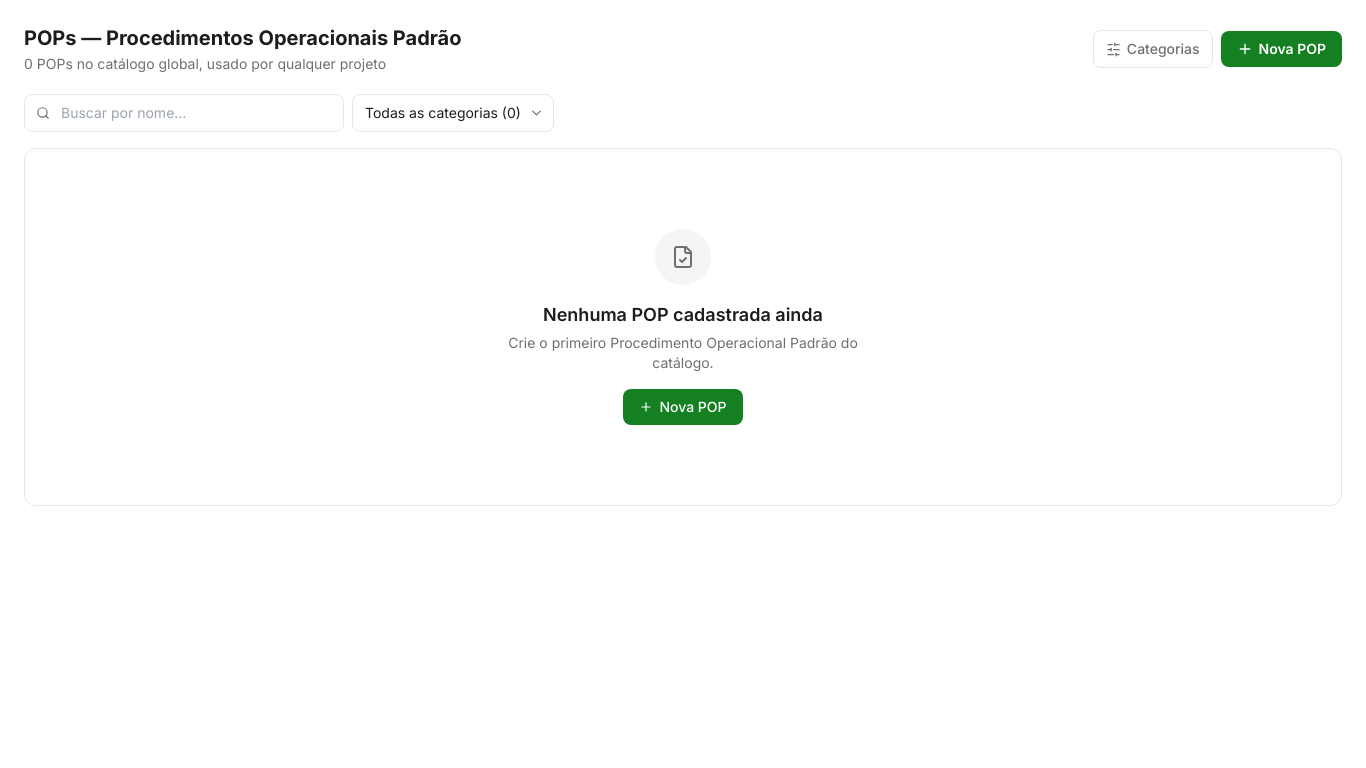
Test: PopsClient form › should close without creating anything when cancel is pressed
The width and height of the screenshot is (1366, 768).
Click the button "Nova POP" next to "Categorias" at (1281, 49), box [1221,31,1342,67]
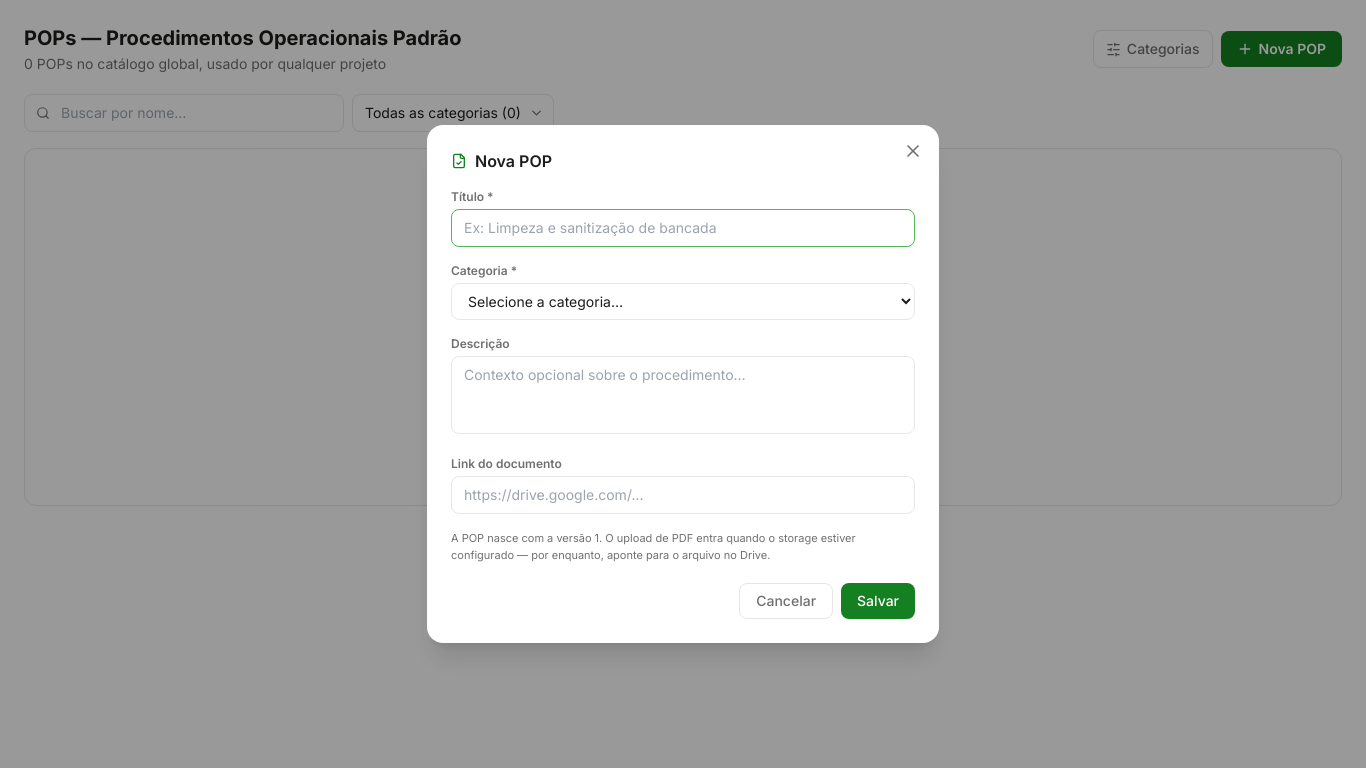
Expected: the field labelled "Título *" is shown, [451,209,915,247]
Click the button "Cancelar" at (786, 601), box [739,583,833,619]
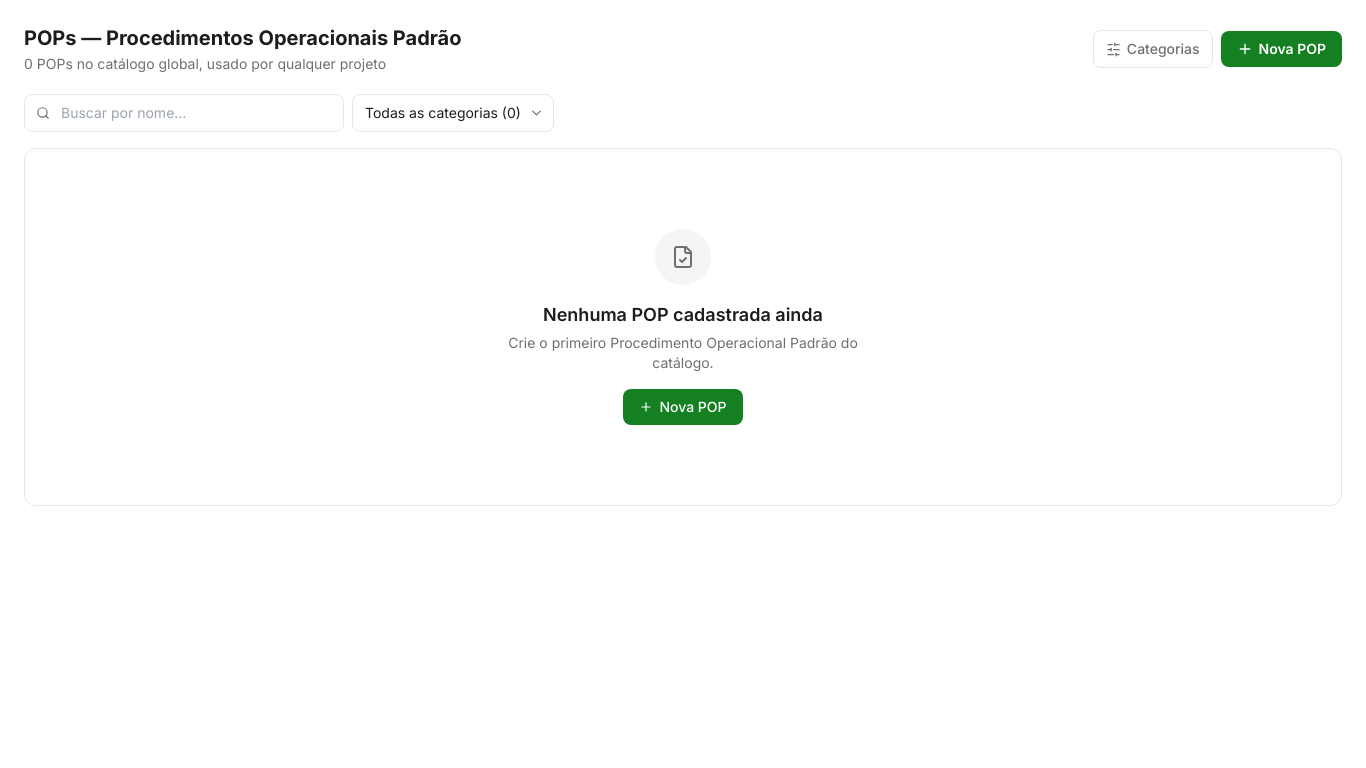
Expected: the label labelled "Título *" is gone
